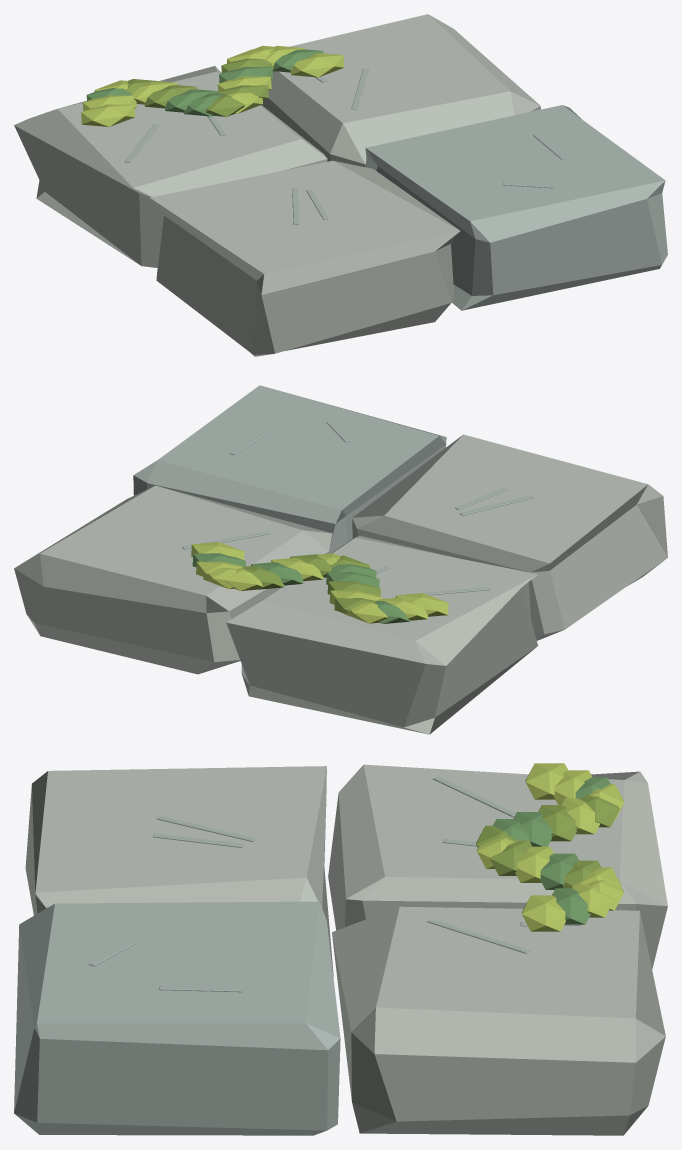
The model's file is slab_ivy_dark.glb.
3 renders of one model, top to bottom at view 1: azimuth 30°, elevation 25°; view 2: azimuth 150°, elevation 25°; view 3: azimuth 270°, elevation 25°, orthographic. The views are drawn at different scales.
Visible parts, largest first — view 1: slab_ivy_dark; view 2: slab_ivy_dark; view 3: slab_ivy_dark.
Boxes of the visible parts, left/top/right/bottom form: slab_ivy_dark: left=14, top=14, right=667, bottom=356; slab_ivy_dark: left=14, top=385, right=667, bottom=734; slab_ivy_dark: left=14, top=763, right=667, bottom=1135.
Bounding box in the file's own units: 1.04 × 0.24 × 1.03.
